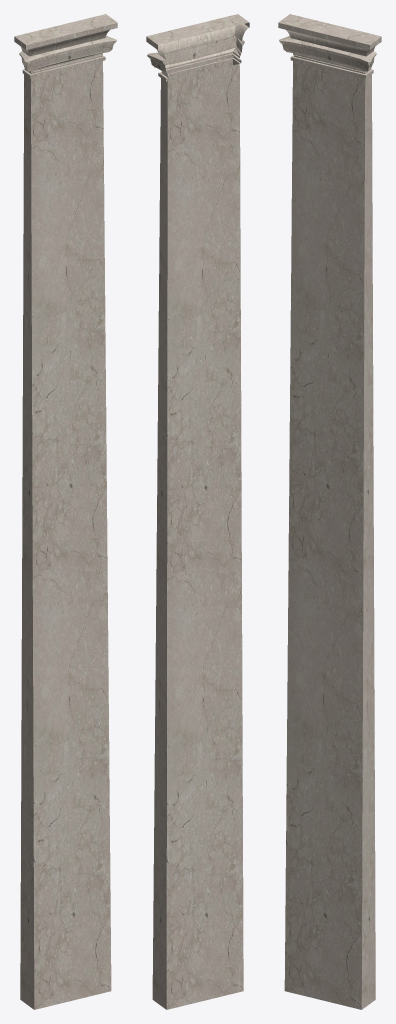
Rendered from marble_tile_159.fbx.
3 views of the same model, side by side, from view 1: azimuth 30°, elevation 25°; view 2: azimuth 210°, elevation 25°; view 3: azimuth 330°, elevation 25° (orthographic).
Visible parts, largest first — view 1: marble_tile_159; view 2: marble_tile_159; view 3: marble_tile_159.
Part boxes in pixels (x1=…): marble_tile_159: x1=14, y1=14, x2=117, y2=1009; marble_tile_159: x1=146, y1=14, x2=249, y2=1009; marble_tile_159: x1=278, y1=14, x2=381, y2=1009.
Bounding box in the file's own units: 62.16 × 624 × 16.42.
